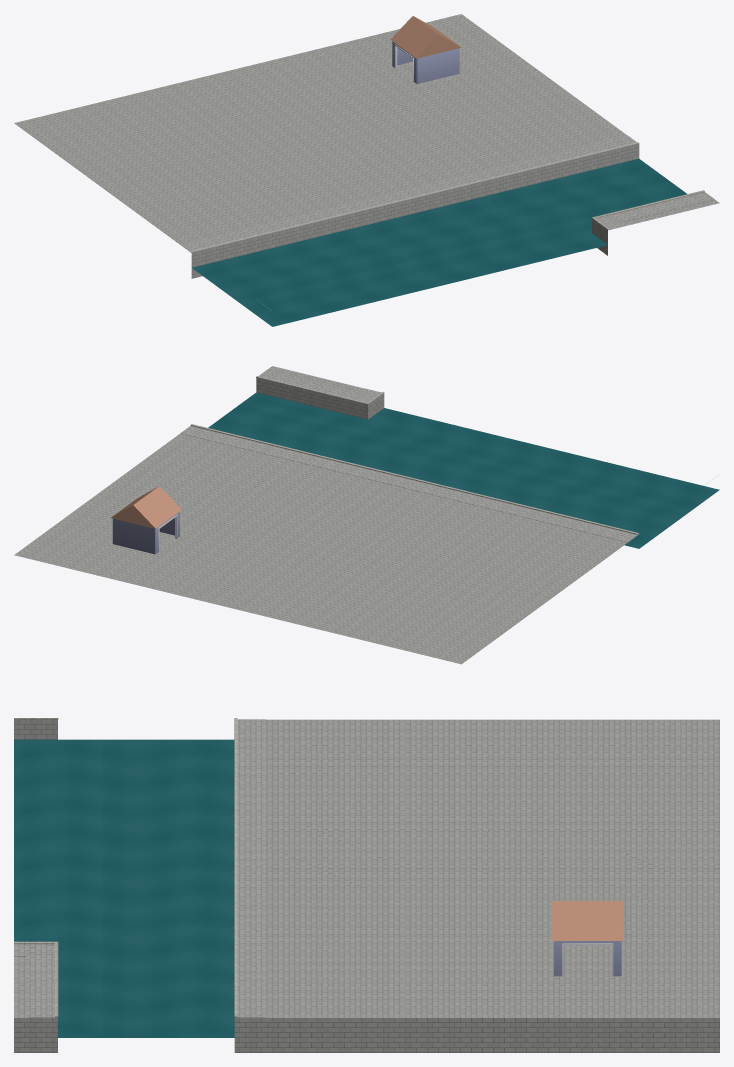
Rendered from canal-2-1.glb.
The picture shows the model from 3 angles, top to bottom: view 1: azimuth 30°, elevation 25°; view 2: azimuth 150°, elevation 25°; view 3: azimuth 270°, elevation 25°; orthographic projection. The views are drawn at different scales.
Parts seen in each view (by area): view 1: canal-2-1; view 2: canal-2-1; view 3: canal-2-1.
Part boxes in pixels (x1=…): canal-2-1: x1=14, y1=14, x2=719, y2=326; canal-2-1: x1=14, y1=366, x2=719, y2=664; canal-2-1: x1=14, y1=718, x2=719, y2=1052.
Bounding box in the file's own units: 128 × 19.2 × 128.
12 materials, 12 textured.
